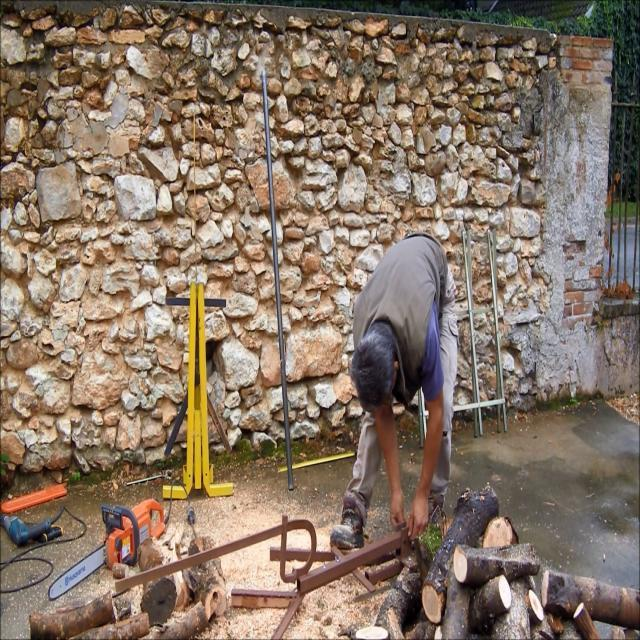Chainsaw: (43, 454, 180, 626)
